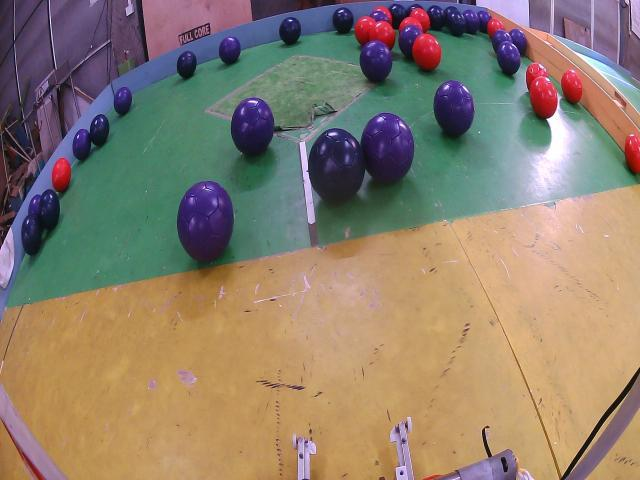jambhalya: (178, 182, 234, 261), (360, 113, 414, 183), (231, 97, 274, 155), (434, 80, 475, 137), (360, 40, 392, 82), (21, 215, 42, 255), (399, 25, 422, 58), (498, 42, 521, 75), (279, 17, 301, 45), (72, 128, 91, 160), (219, 37, 241, 63), (114, 87, 132, 115), (510, 28, 528, 55), (492, 30, 512, 53), (462, 10, 480, 35), (478, 10, 491, 33), (28, 195, 41, 217), (370, 10, 389, 22)
kaalyya: (309, 128, 365, 202), (39, 190, 60, 230), (89, 113, 110, 146), (279, 17, 301, 45), (332, 7, 354, 33), (176, 50, 196, 78), (389, 3, 408, 30), (448, 12, 466, 37), (428, 5, 445, 30), (444, 7, 459, 22)
